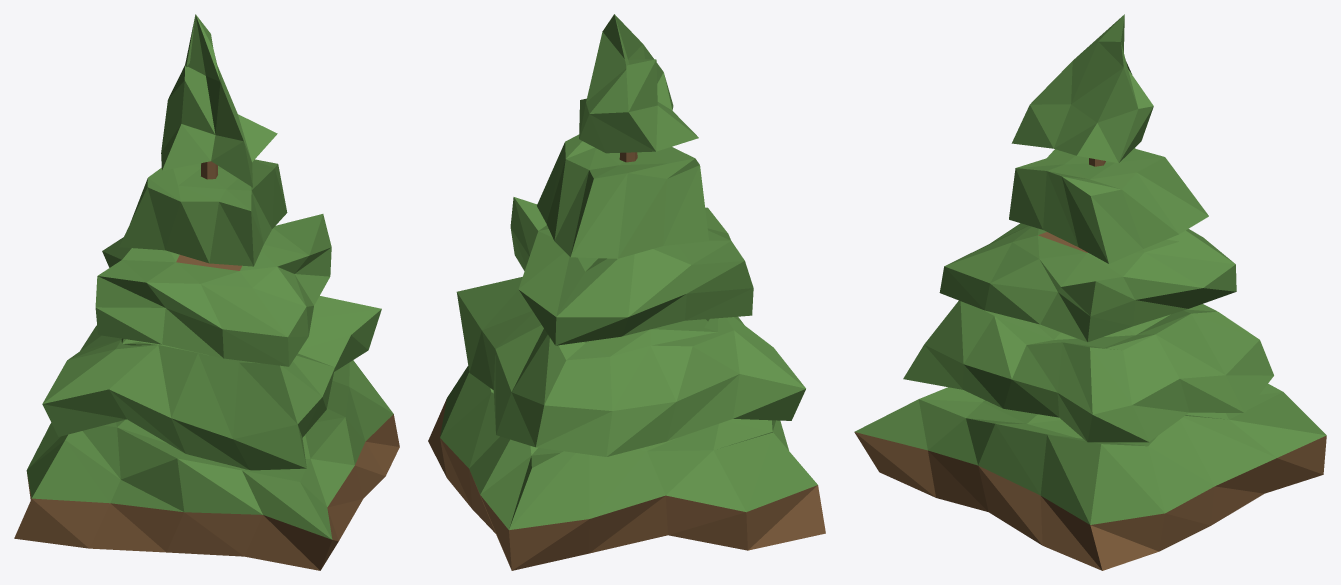
Rendered from tree3d-093.glb.
3 renders of one model, left to right at view 1: azimuth 30°, elevation 25°; view 2: azimuth 150°, elevation 25°; view 3: azimuth 270°, elevation 25°, orthographic. The views are drawn at different scales.
Parts seen in each view (by area): view 1: tree3d-093; view 2: tree3d-093; view 3: tree3d-093.
Boxes of the visible parts, x1,y1,x2,y2 form: tree3d-093: (14, 14, 399, 570); tree3d-093: (428, 14, 825, 570); tree3d-093: (854, 14, 1326, 570).
Bounding box in the file's own units: 0.7822 × 1 × 0.841.
